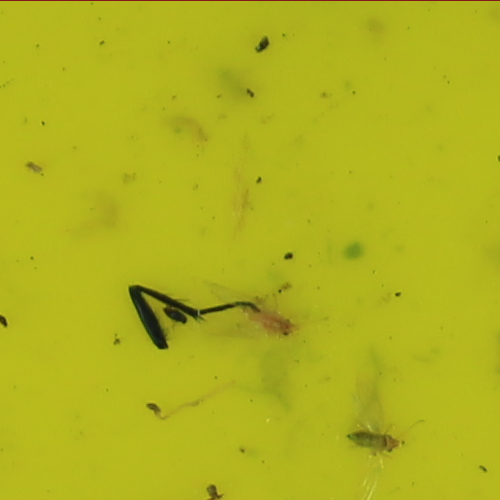Glycaspis: (245, 303, 298, 342), (343, 429, 404, 455)
